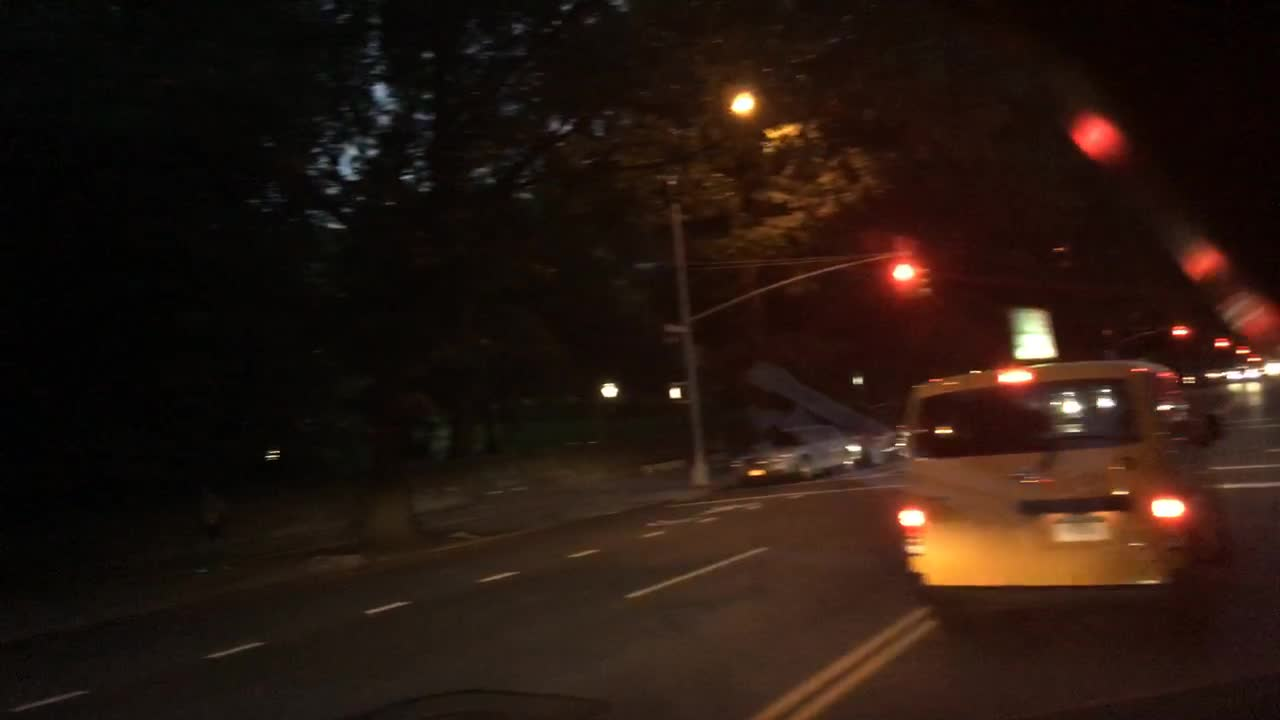car: (891, 356, 1224, 624), (727, 422, 862, 484), (849, 432, 907, 467), (1222, 362, 1261, 389)
traffic light: (914, 265, 936, 298), (889, 257, 910, 287), (1213, 336, 1229, 349), (1169, 323, 1186, 335)
traffic sign: (1009, 305, 1062, 358)
